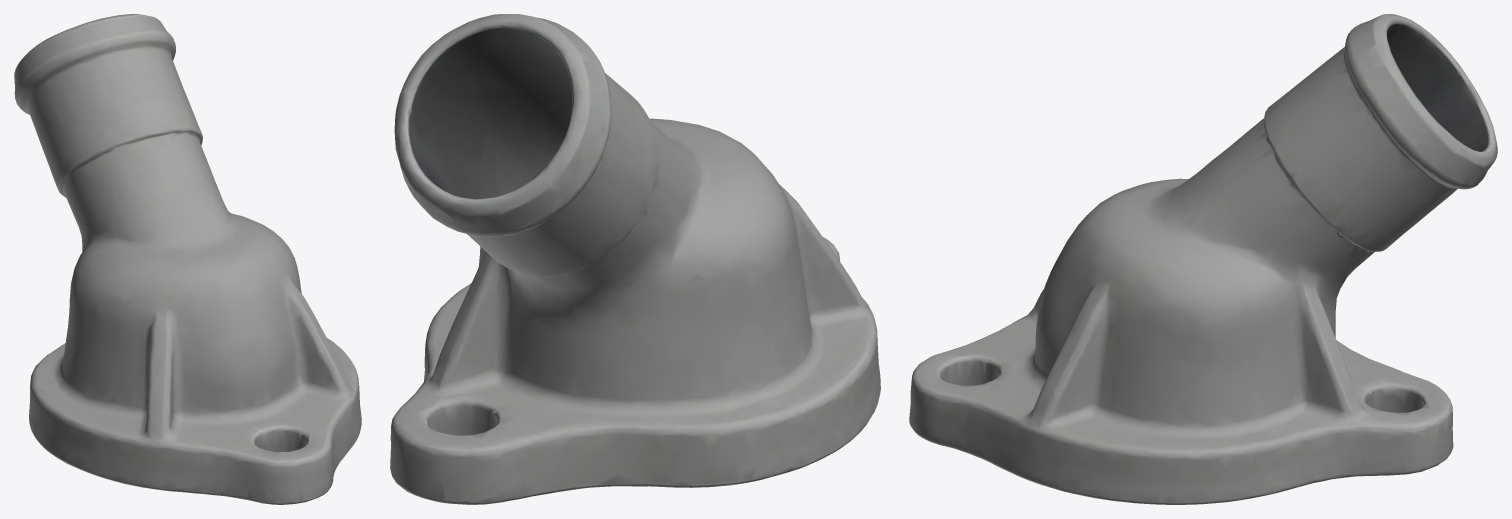
File: water-pipe-thermostat.glb
3 renders of one model, left to right at view 1: azimuth 30°, elevation 25°; view 2: azimuth 150°, elevation 25°; view 3: azimuth 270°, elevation 25°, orthographic. The views are drawn at different scales.
Visible parts, largest first — view 1: tripo_node_40e7107e-a1b4-4555-a2a6-66a01e975bbd; view 2: tripo_node_40e7107e-a1b4-4555-a2a6-66a01e975bbd; view 3: tripo_node_40e7107e-a1b4-4555-a2a6-66a01e975bbd.
Boxes of the visible parts, left/top/right/bottom form: tripo_node_40e7107e-a1b4-4555-a2a6-66a01e975bbd: left=14, top=14, right=361, bottom=504; tripo_node_40e7107e-a1b4-4555-a2a6-66a01e975bbd: left=390, top=14, right=880, bottom=504; tripo_node_40e7107e-a1b4-4555-a2a6-66a01e975bbd: left=909, top=14, right=1497, bottom=504.
Bounding box in the file's own units: 0.6639 × 0.751 × 1.
1 material, 1 textured.
